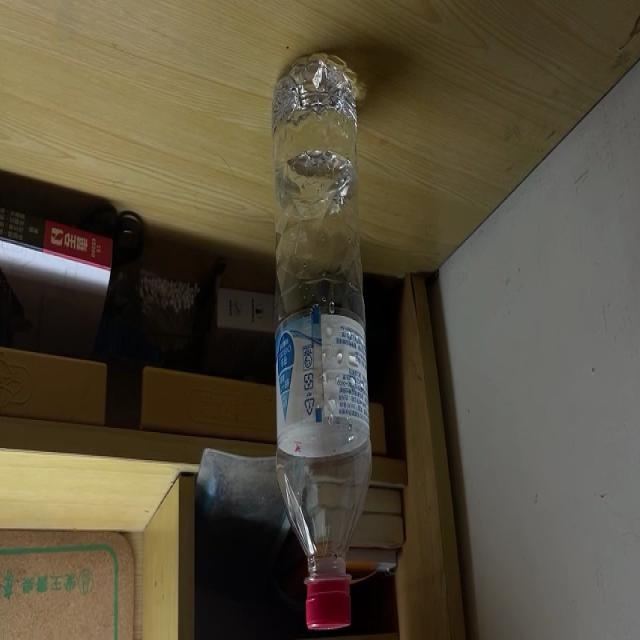Water: (272, 51, 371, 634)
